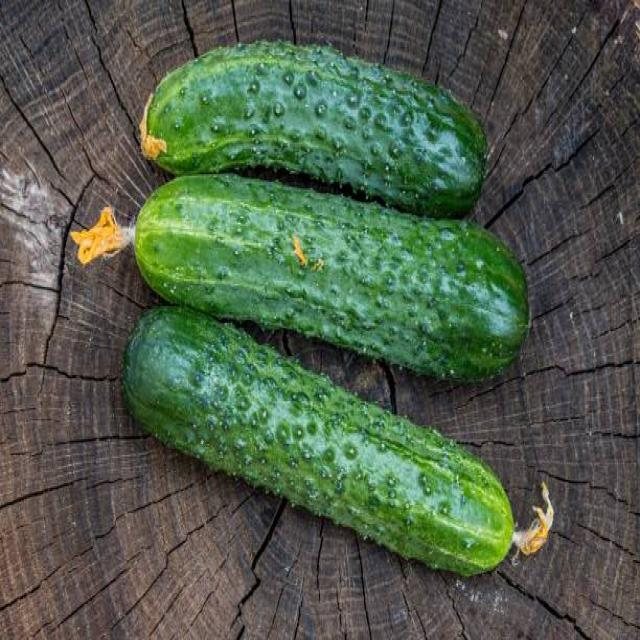cucumber: (124, 304, 516, 582), (132, 175, 532, 378), (144, 41, 486, 213)
